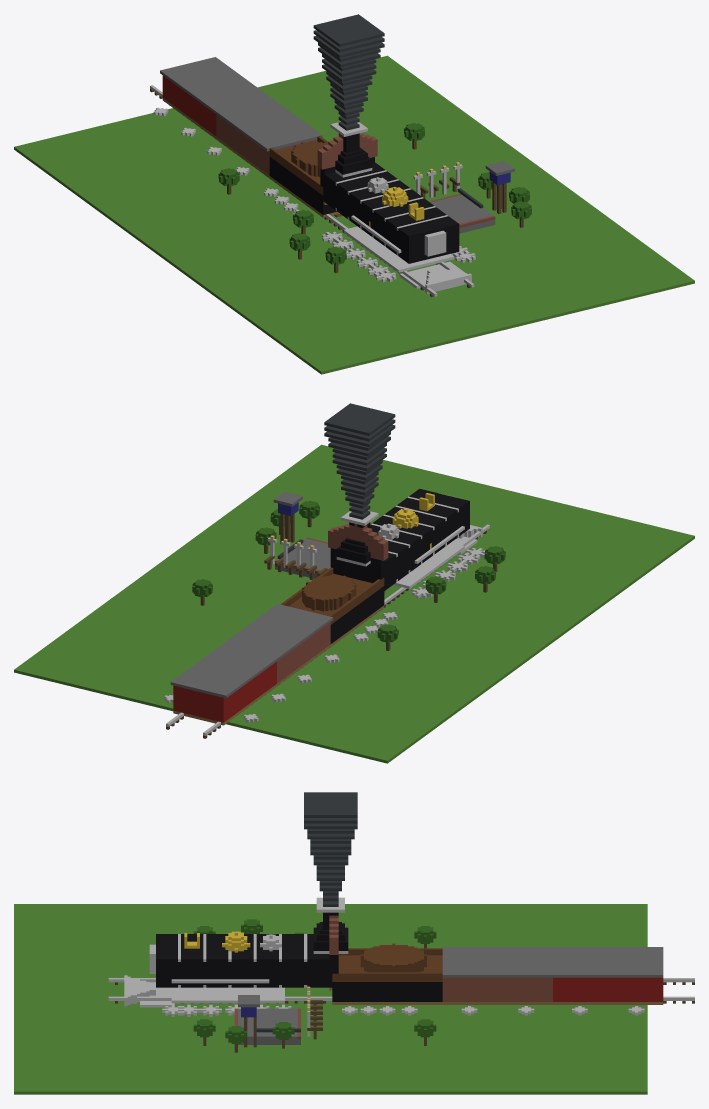
The picture shows the model from 3 angles, top to bottom: view 1: azimuth 30°, elevation 25°; view 2: azimuth 150°, elevation 25°; view 3: azimuth 270°, elevation 25°; orthographic projection. The views are drawn at different scales.
Bounding box in the file's own units: 141 × 68 × 216.
